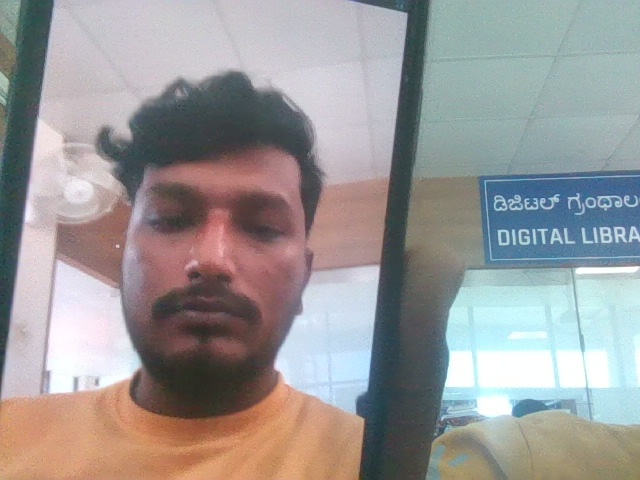fake: (96, 64, 334, 402)
